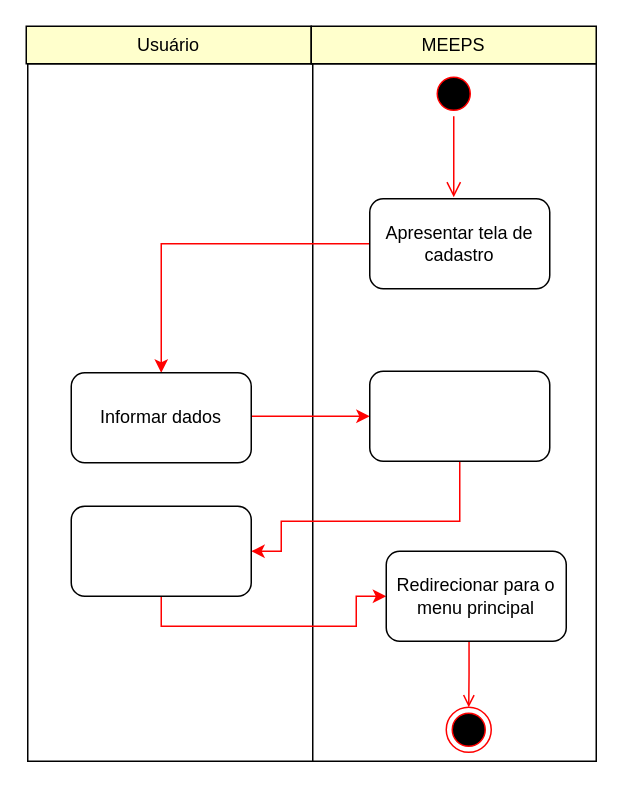
Image size: 623x788. Some labels were removed from this diagram. The shapes that lost their labels are listed below. From the top down, each one's box as (x1, y1, x2, y2) in pixels, then its label:
(368, 370, 550, 461): Verificar se é vendedor
(70, 505, 251, 596): Selecionar Cadastrar
